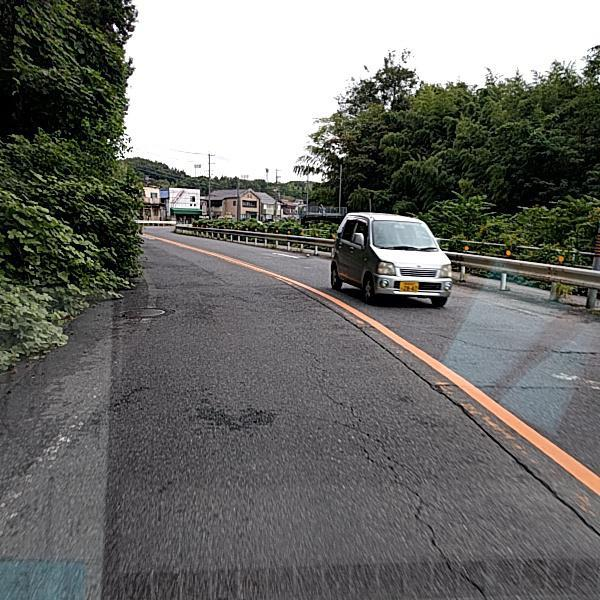D00: (309, 353, 487, 599)
D10: (458, 374, 597, 398)
D44: (0, 281, 161, 515)
D50: (119, 306, 165, 316)
